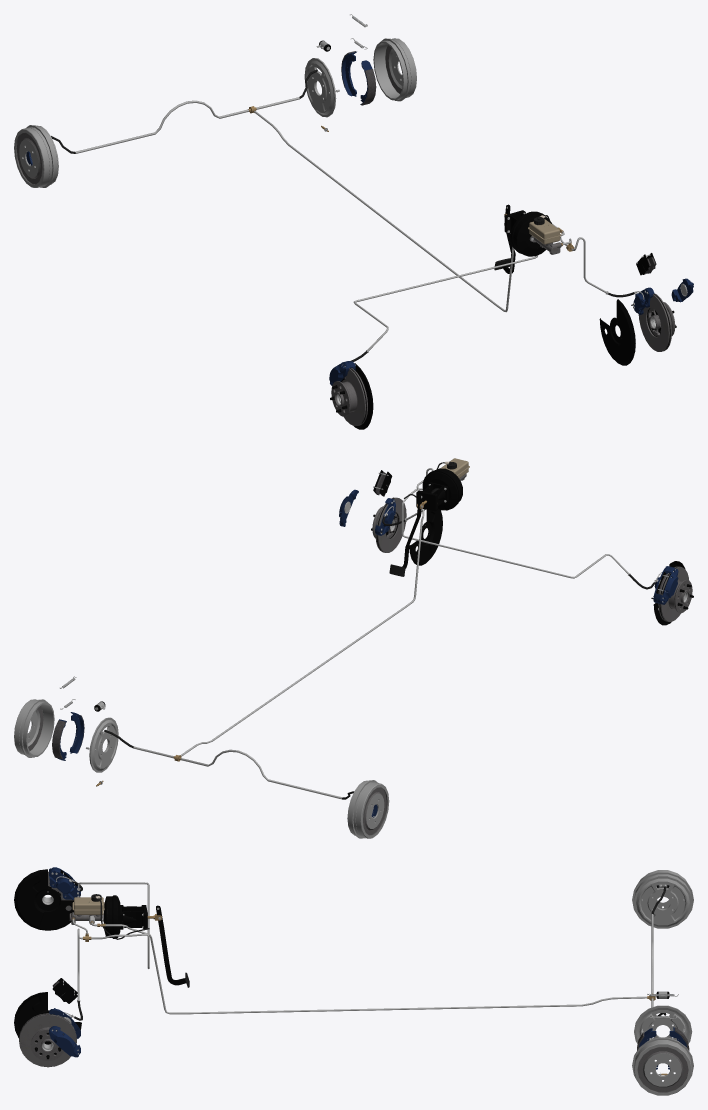
File: tcc_models-full_brakes_COMPLETO.glb
3 renders of one model, top to bottom at view 1: azimuth 30°, elevation 25°; view 2: azimuth 150°, elevation 25°; view 3: azimuth 270°, elevation 25°, orthographic. The views are drawn at different scales.
Parts seen in each view (by area): view 1: linhas_freio, tambor_completo, disco_completo, tambor, tampa_tras, disco, tampa_traseira, hidrovacuo, sapatas, pinca, reservatorio_freio; view 2: linhas_freio, tambor_completo, tambor, disco_completo, hidrovacuo, tampa_traseira, tampa_tras, disco, sapatas, pinca; view 3: disco_completo, linhas_freio, tambor_completo, tambor, disco, hidrovacuo, tampa_traseira, tampa_tras, pinca, reservatorio_freio, pedal_freio, sapatas (+1 smaller).
Boxes of the visible parts, <box> form: linhas_freio: <box>51,69,634,361</box>; tambor_completo: <box>14,125,58,187</box>; disco_completo: <box>329,361,373,429</box>; tambor: <box>373,38,416,101</box>; tampa_tras: <box>599,299,635,365</box>; disco: <box>638,293,676,351</box>; tampa_traseira: <box>304,58,339,117</box>; hidrovacuo: <box>504,210,551,256</box>; sapatas: <box>341,51,376,105</box>; pinca: <box>631,278,693,314</box>; reservatorio_freio: <box>528,215,561,244</box>; linhas_freio: <box>104,468,655,799</box>; tambor_completo: <box>347,780,389,838</box>; tambor: <box>14,699,54,757</box>; disco_completo: <box>651,561,693,625</box>; hidrovacuo: <box>416,468,462,511</box>; tampa_traseira: <box>86,717,118,772</box>; tampa_tras: <box>409,509,442,565</box>; disco: <box>371,497,406,552</box>; sapatas: <box>52,712,84,760</box>; pinca: <box>339,489,395,535</box>; disco_completo: <box>14,867,80,930</box>; linhas_freio: <box>72,881,666,1020</box>; tambor_completo: <box>632,870,693,928</box>; tambor: <box>632,1037,693,1095</box>; disco: <box>19,1013,76,1067</box>; hidrovacuo: <box>104,895,162,938</box>; tampa_traseira: <box>634,1005,692,1043</box>; tampa_tras: <box>14,992,81,1044</box>; pinca: <box>49,1008,80,1057</box>; reservatorio_freio: <box>72,894,149,939</box>; pedal_freio: <box>156,905,189,987</box>; sapatas: <box>637,1027,689,1069</box>.
Bounding box in the file's own units: 1.72 × 0.6351 × 2.73.
Materials: 6 (6 with a texture image).
